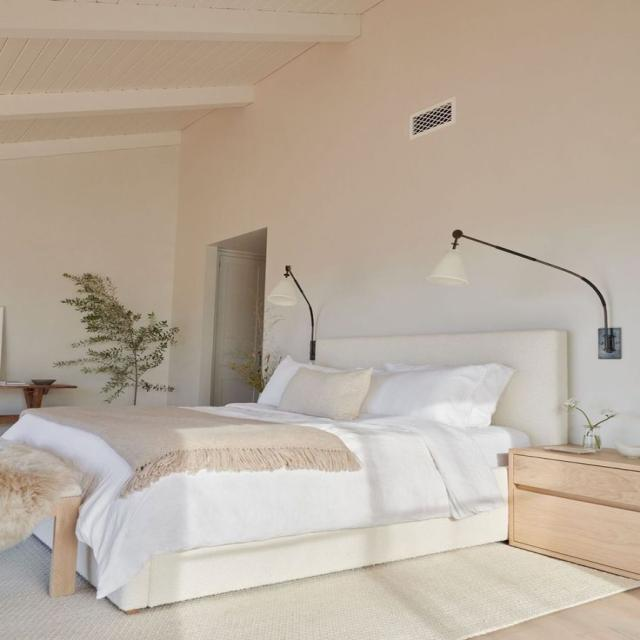door: (209, 247, 265, 406)
obstacle: (0, 328, 570, 614), (504, 448, 640, 578), (0, 382, 77, 424)
